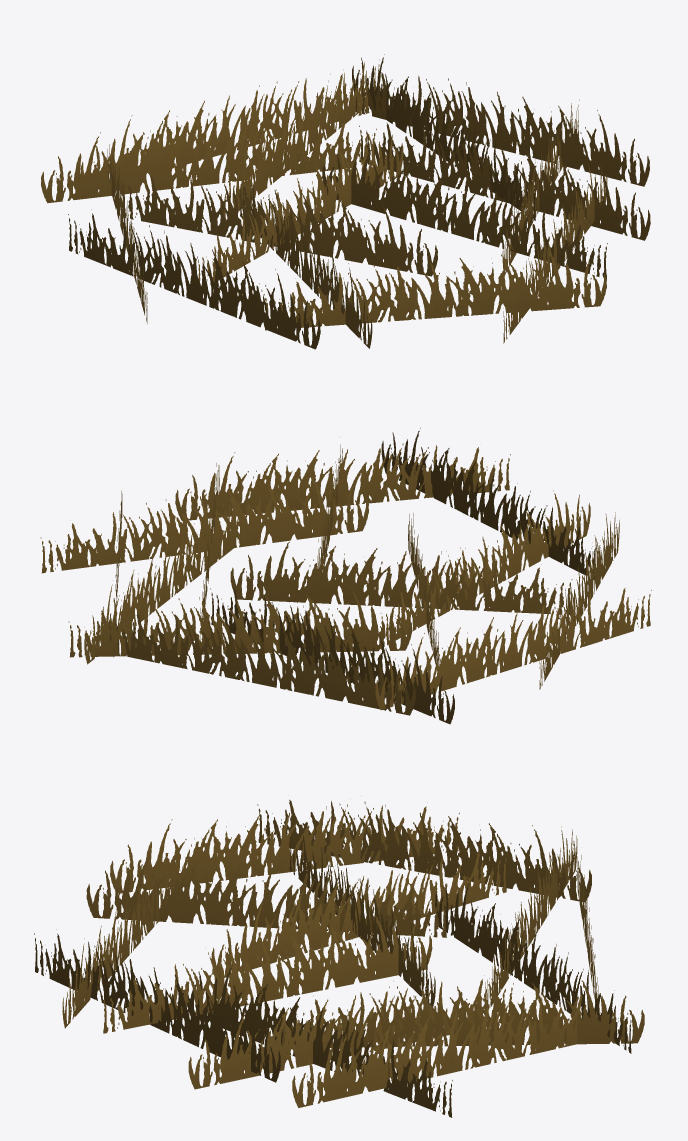
File: mdlCLGrass.fbx
The picture shows the model from 3 angles, top to bottom: view 1: azimuth 30°, elevation 25°; view 2: azimuth 150°, elevation 25°; view 3: azimuth 270°, elevation 25°; orthographic projection. The views are drawn at different scales.
Parts seen in each view (by area): view 1: Grass; view 2: Grass; view 3: Grass.
Part boxes in pixels (bbox=[...]): Grass: bbox=[41, 54, 650, 349]; Grass: bbox=[40, 427, 651, 724]; Grass: bbox=[34, 799, 644, 1117].
Size of the model in its own units: 1108 by 162 by 1096.
